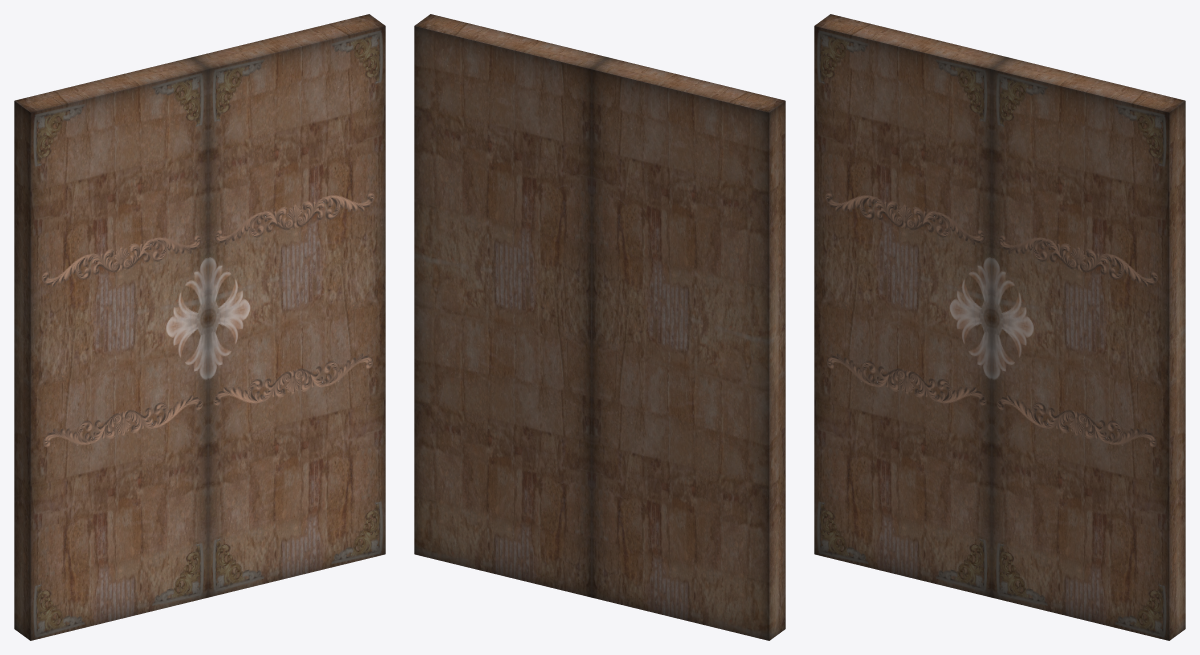
Rendered from Ancient Door.fbx.
3 views of the same model, side by side, from view 1: azimuth 30°, elevation 25°; view 2: azimuth 150°, elevation 25°; view 3: azimuth 330°, elevation 25° (orthographic).
Visible parts, largest first — view 1: Box002, Box001; view 2: Box002, Box001; view 3: Box001, Box002.
Part boxes in pixels (left/top/right/bottom): Box002: left=14, top=57, right=208, bottom=640; Box001: left=192, top=14, right=385, bottom=597; Box002: left=591, top=57, right=785, bottom=640; Box001: left=414, top=14, right=607, bottom=597; Box001: left=991, top=57, right=1185, bottom=640; Box002: left=814, top=14, right=1007, bottom=597.
Bounding box in the file's own units: 5.56 × 7.9 × 0.4453.
